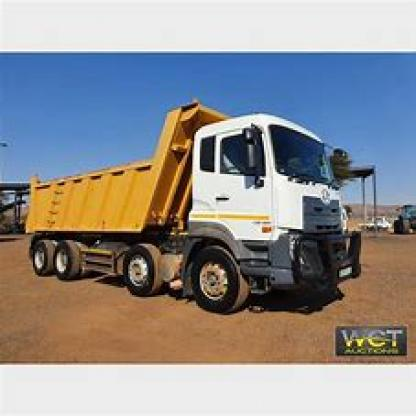dump_truck: (22, 97, 374, 310)
